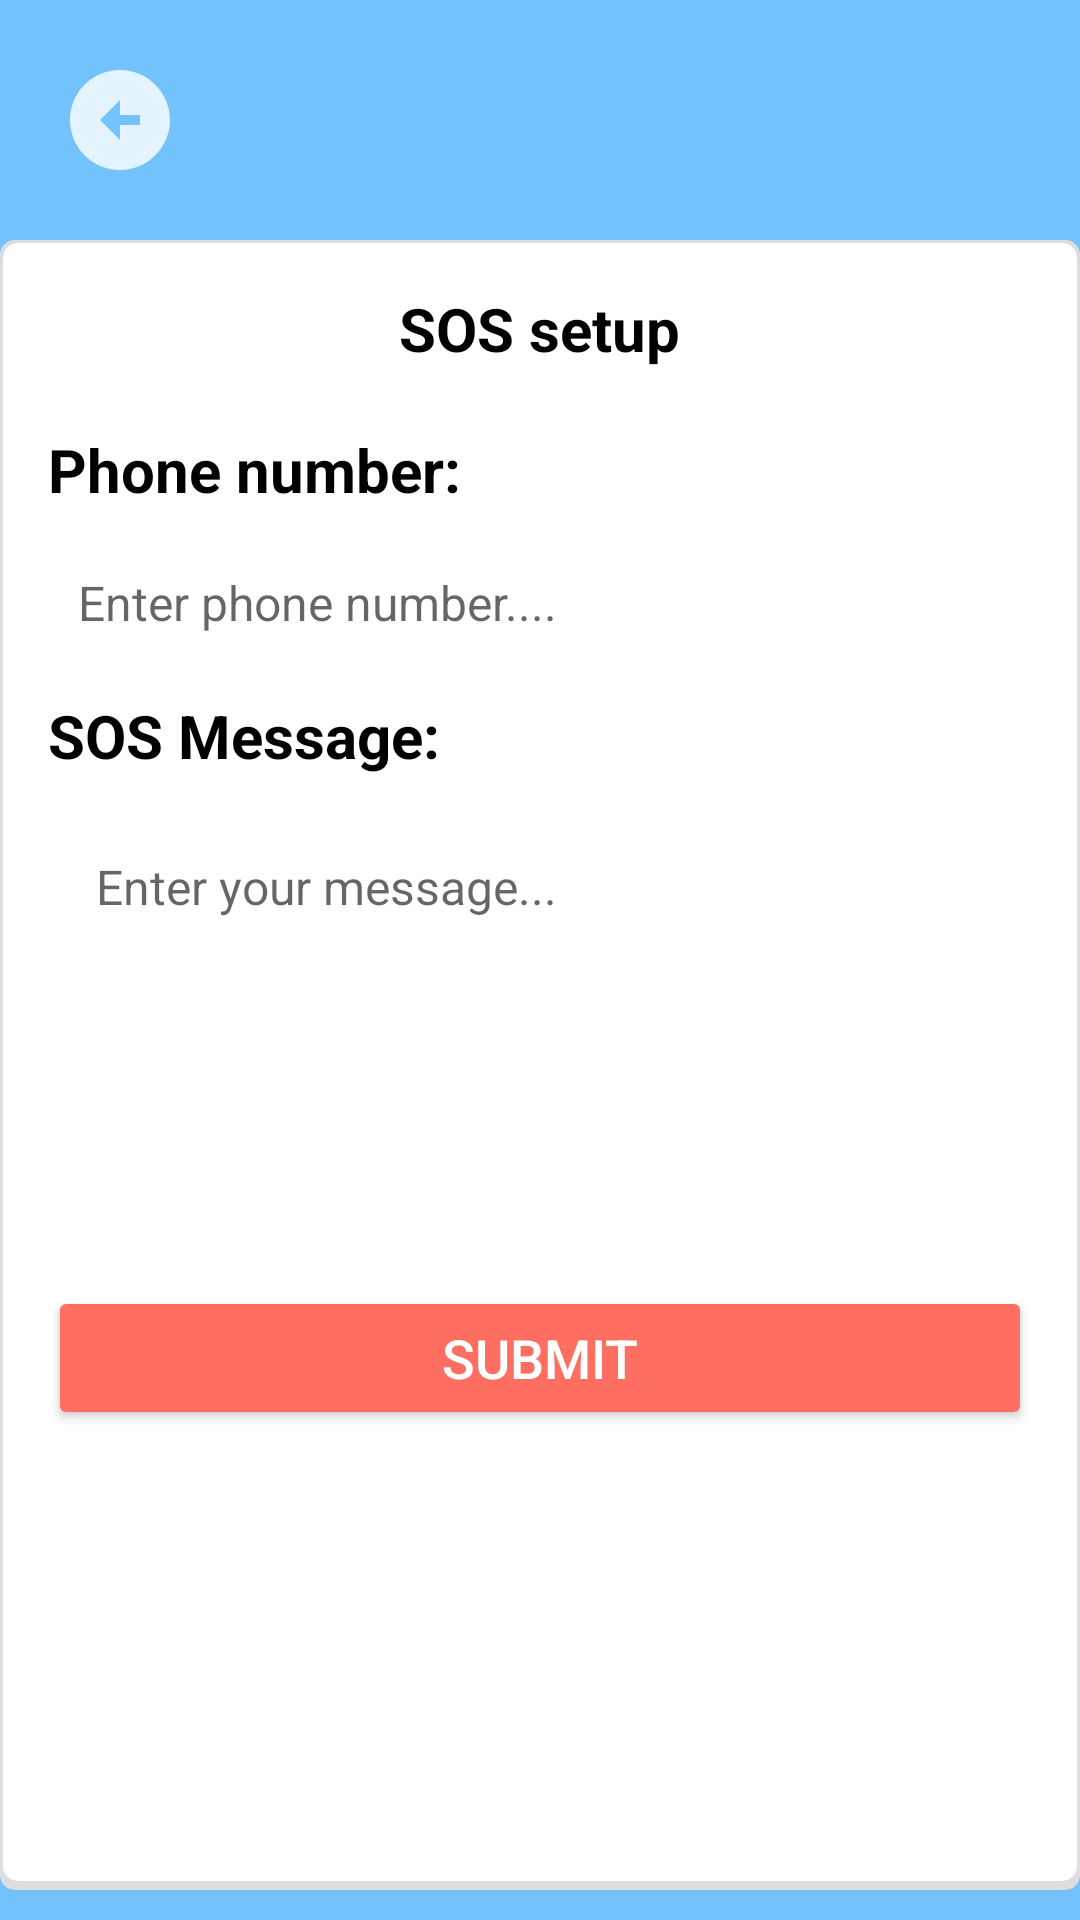

Icon click points for this 1080px x 1920px phone screenshot, format (x=x, y=y):
back: (x=120, y=120)
